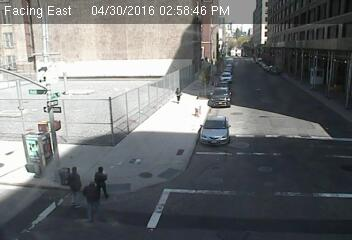neg: (15, 127, 47, 170), (82, 83, 112, 124), (132, 158, 161, 195), (28, 75, 56, 112), (79, 32, 106, 67), (166, 137, 192, 171), (195, 57, 220, 91), (280, 110, 304, 142), (197, 108, 219, 137), (230, 131, 251, 159), (307, 66, 322, 85), (257, 53, 270, 71)
pos: (61, 164, 87, 200), (79, 182, 105, 216), (94, 164, 111, 186), (171, 86, 183, 102)
